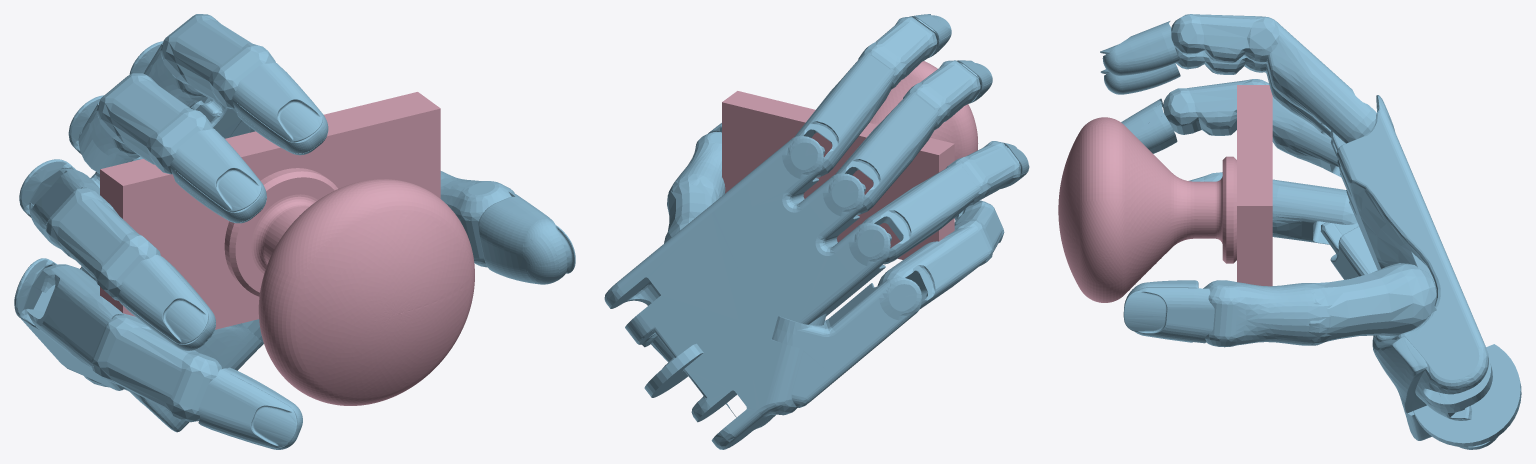
3 views of the same model, side by side, from view 1: azimuth 30°, elevation 25°; view 2: azimuth 150°, elevation 25°; view 3: azimuth 270°, elevation 25° (orthographic). The views are drawn at different scales.
Parts seen in each view (by area): view 1: world, door_knob.stl; view 2: world, door_knob.stl; view 3: world, door_knob.stl.
Boxes of the visible parts, x1,y1,x2,y2 form: world: (14, 14, 575, 449); door_knob.stl: (100, 92, 474, 405); world: (604, 14, 1029, 449); door_knob.stl: (722, 61, 978, 259); world: (1100, 14, 1521, 449); door_knob.stl: (1058, 85, 1272, 302).
Bounding box in the file's own units: 0.1414 × 0.1553 × 0.162.
